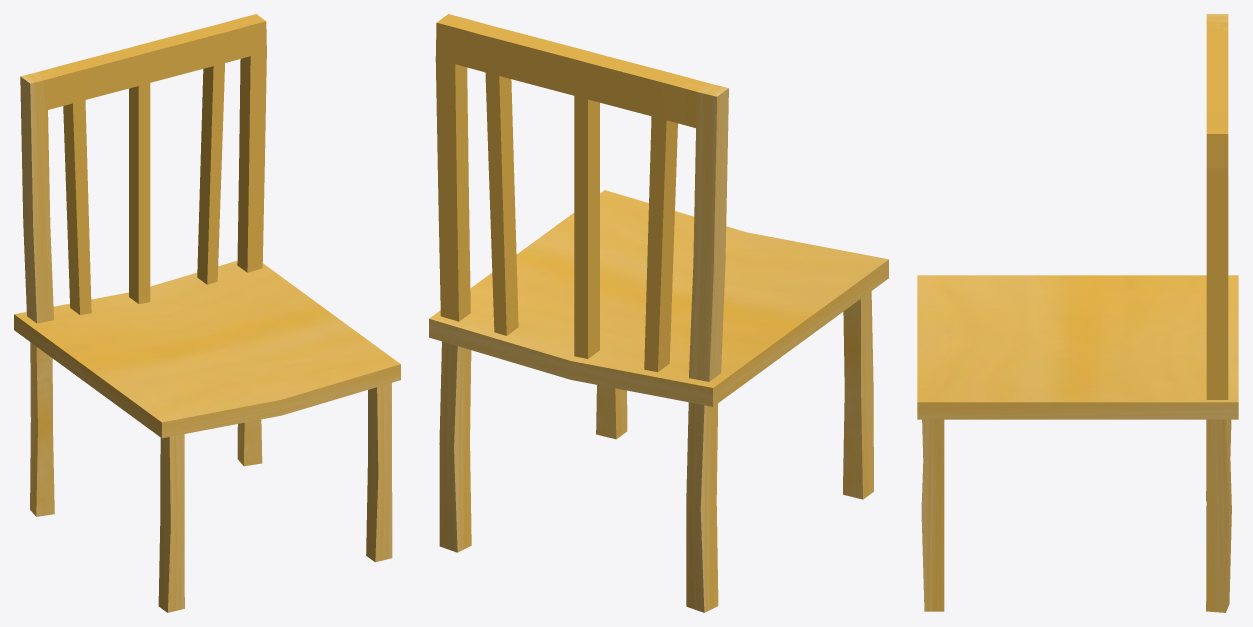
File: low_poly_chair.glb
The picture shows the model from 3 angles, left to right: view 1: azimuth 30°, elevation 25°; view 2: azimuth 150°, elevation 25°; view 3: azimuth 270°, elevation 25°; orthographic projection. The views are drawn at different scales.
Parts seen in each view (by area): view 1: Object_2; view 2: Object_2; view 3: Object_2.
Boxes of the visible parts, bbox=[...] form: Object_2: bbox=[14, 14, 400, 612]; Object_2: bbox=[429, 14, 888, 612]; Object_2: bbox=[917, 14, 1238, 612].
Bounding box in the file's own units: 4.02 × 7.09 × 4.31.
Materials: 1 (1 with a texture image).
